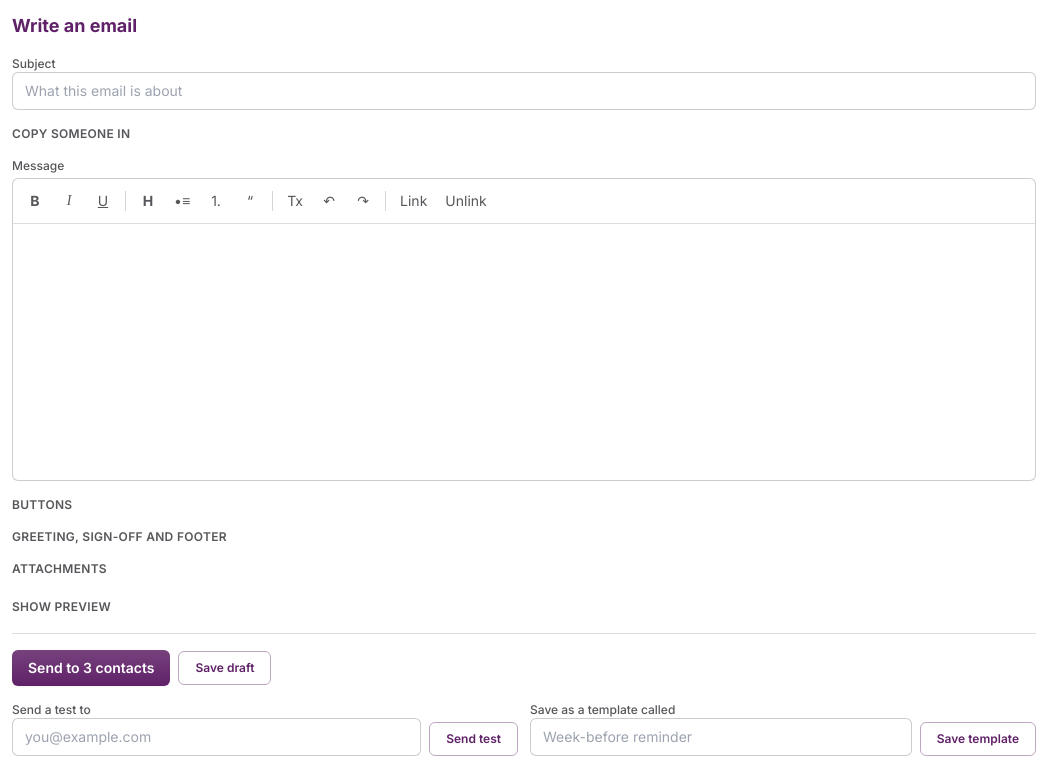
what the server says › keeps sending batches until the run is done
The width and height of the screenshot is (1048, 780).
Click the button "Send to 3 contacts".
click(91, 668)  # box [12,650,170,686]
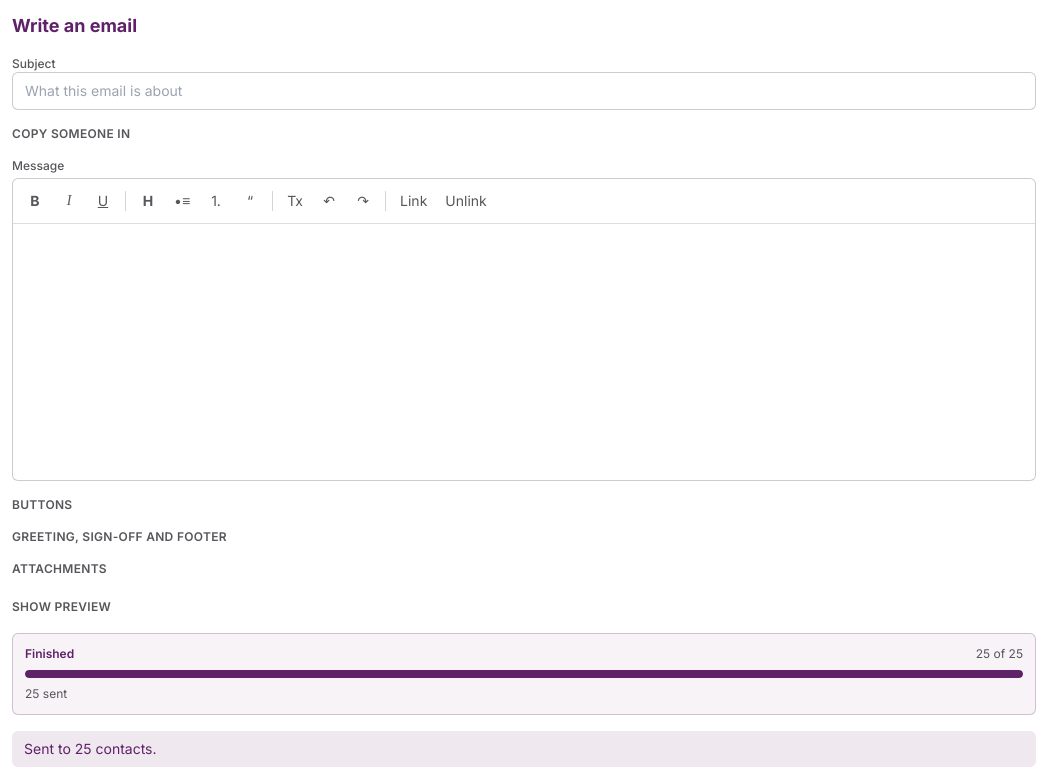
Result: the text "Sent to 25 contacts." is shown at [12,731,1036,767]
